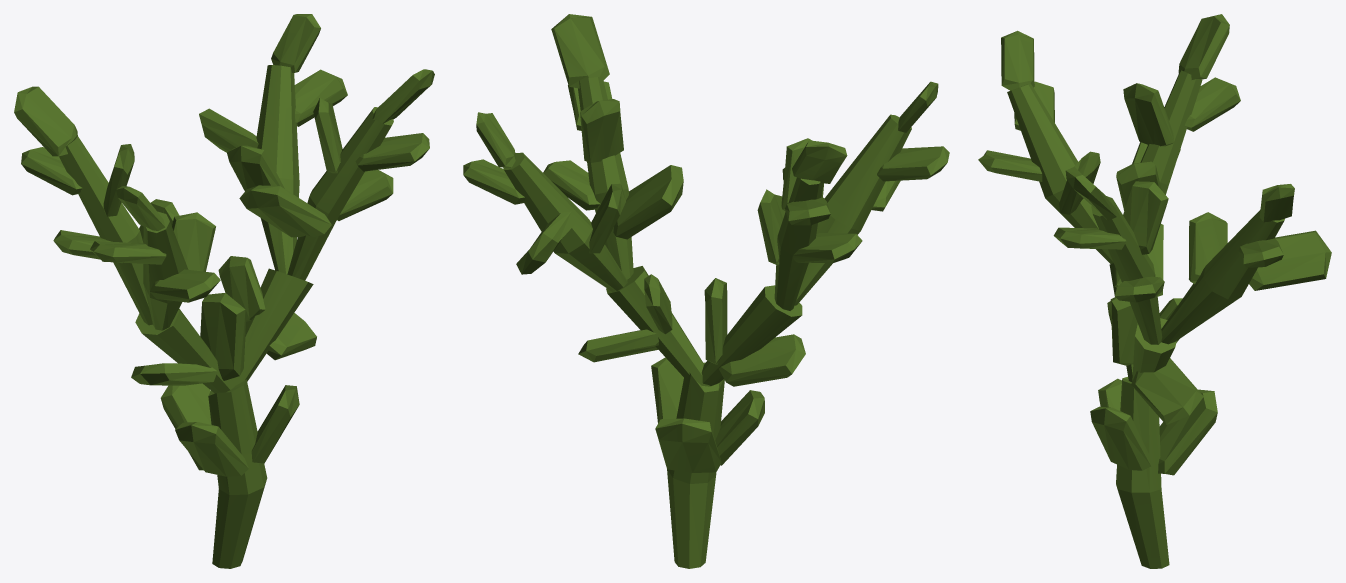
Rendered from Desert_plant_008.glb.
The picture shows the model from 3 angles, left to right: view 1: azimuth 30°, elevation 25°; view 2: azimuth 150°, elevation 25°; view 3: azimuth 270°, elevation 25°; orthographic projection. The views are drawn at different scales.
Parts seen in each view (by area): view 1: Desert_plant_008; view 2: Desert_plant_008; view 3: Desert_plant_008.
Part boxes in pixels (bbox=[...]): Desert_plant_008: bbox=[14, 14, 434, 568]; Desert_plant_008: bbox=[463, 14, 949, 568]; Desert_plant_008: bbox=[978, 14, 1331, 568].
Size of the model in its own units: 1.05 by 1.32 by 0.9068.
Materials: 1 (1 with a texture image).
